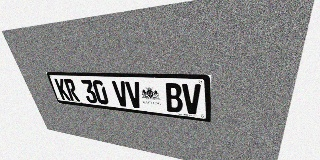0: (91, 80, 109, 105)
3: (80, 79, 98, 104)
B: (164, 83, 183, 113)
K: (54, 78, 71, 101)
R: (63, 79, 80, 102)
V: (182, 83, 201, 115), (125, 81, 143, 109), (111, 81, 130, 107)
